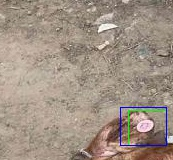text: (128, 110, 166, 145)
